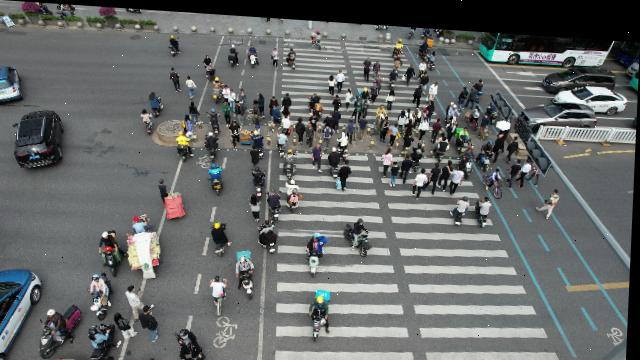non-motor-vehicle: (41, 301, 86, 355), (132, 212, 165, 274), (181, 325, 213, 360), (346, 212, 373, 253), (89, 321, 117, 360), (314, 285, 336, 333), (89, 272, 113, 315), (237, 249, 259, 292), (101, 228, 124, 266), (308, 230, 328, 273), (212, 219, 231, 253), (173, 129, 195, 158), (212, 273, 232, 304), (262, 215, 279, 250), (286, 175, 303, 208), (207, 161, 225, 192), (485, 163, 505, 190), (266, 186, 283, 216), (325, 141, 341, 171), (454, 189, 469, 218), (206, 131, 221, 160), (284, 145, 298, 176), (308, 88, 325, 112), (480, 135, 495, 161), (139, 107, 153, 133), (460, 142, 475, 166), (338, 131, 351, 158), (50, 6, 81, 17), (480, 193, 493, 219), (252, 165, 266, 189), (207, 107, 223, 128), (436, 128, 449, 153), (149, 89, 163, 112), (247, 42, 261, 65), (211, 71, 222, 100), (168, 33, 182, 55), (447, 97, 461, 115), (227, 43, 240, 62), (285, 45, 298, 64), (311, 25, 324, 44), (469, 103, 481, 123), (414, 137, 425, 158), (362, 82, 371, 107), (277, 127, 291, 143), (459, 122, 472, 139), (489, 92, 500, 112), (389, 63, 401, 81), (392, 34, 405, 50), (416, 51, 429, 67), (253, 127, 265, 143), (427, 45, 439, 59), (419, 35, 430, 50), (376, 98, 386, 112), (136, 354, 159, 360), (394, 51, 403, 65), (406, 128, 412, 145), (477, 72, 486, 83), (409, 21, 416, 34), (376, 20, 389, 26), (421, 23, 429, 32)
person: (156, 177, 189, 218), (537, 180, 563, 212), (144, 308, 162, 342), (114, 311, 137, 337), (228, 117, 249, 144), (128, 282, 144, 311), (342, 157, 356, 188), (248, 189, 262, 216), (451, 163, 469, 183), (169, 65, 183, 89), (202, 52, 216, 76), (509, 155, 521, 183), (313, 139, 324, 169), (431, 158, 441, 190), (522, 153, 532, 183), (416, 164, 425, 197), (382, 143, 392, 172), (413, 80, 426, 102), (495, 129, 505, 156), (250, 146, 264, 165), (297, 113, 306, 141), (403, 59, 415, 80), (227, 85, 237, 110), (189, 100, 202, 119), (186, 73, 197, 95), (257, 92, 269, 112), (427, 95, 439, 115), (273, 98, 281, 127), (234, 98, 245, 119), (343, 84, 353, 107), (307, 121, 316, 146), (443, 156, 452, 181), (360, 110, 368, 138), (508, 130, 518, 152), (392, 119, 401, 143), (323, 120, 333, 141), (184, 112, 194, 132), (222, 99, 231, 121), (449, 114, 460, 132), (469, 79, 478, 101), (392, 154, 399, 182), (387, 83, 396, 104), (271, 44, 280, 65), (347, 115, 356, 136), (397, 104, 407, 122), (337, 66, 345, 88), (405, 153, 413, 175), (383, 112, 390, 137), (460, 82, 469, 101), (306, 106, 319, 119), (281, 91, 293, 105), (433, 113, 442, 131), (364, 53, 371, 76), (430, 77, 440, 93), (415, 101, 423, 121), (421, 113, 430, 130), (421, 66, 431, 81), (255, 111, 264, 127), (283, 111, 292, 127), (334, 93, 344, 107), (374, 54, 381, 74), (482, 107, 488, 130), (327, 70, 335, 87), (252, 96, 260, 109), (370, 78, 377, 92), (407, 113, 414, 127), (268, 92, 278, 101), (406, 103, 414, 114), (223, 84, 229, 98), (240, 85, 246, 99), (377, 70, 383, 84), (326, 109, 335, 118), (107, 356, 124, 360), (284, 104, 292, 111)
